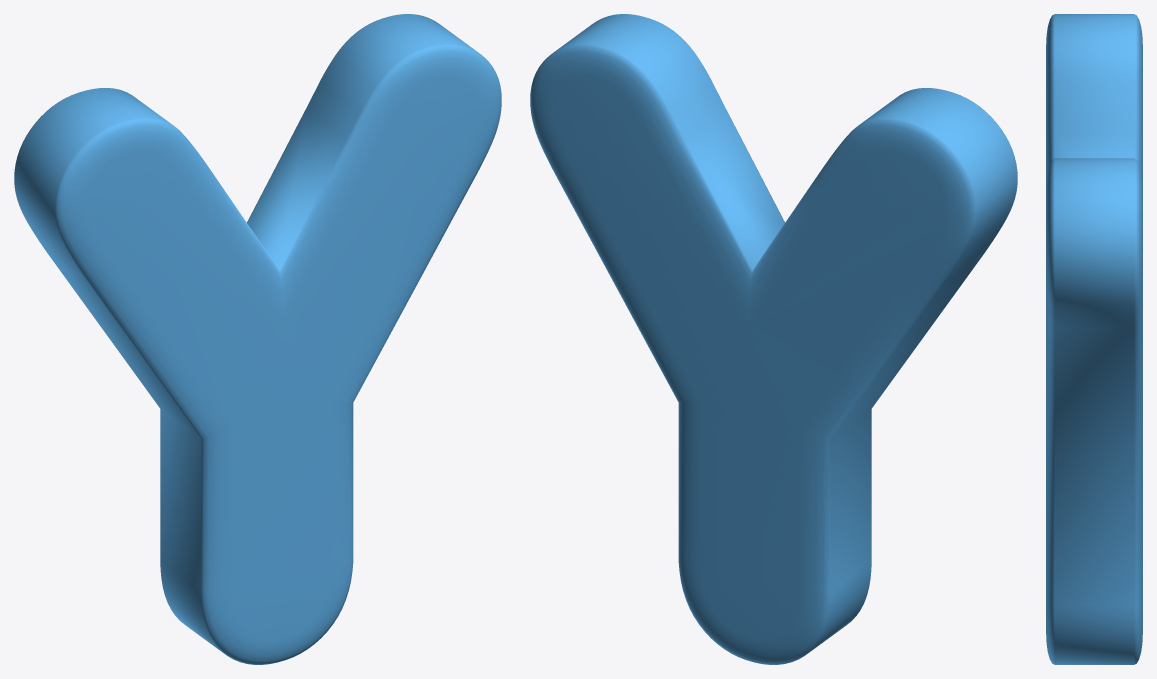
The model's file is RA_Letter_Y.fbx.
The picture shows the model from 3 angles, left to right: view 1: azimuth 30°, elevation 25°; view 2: azimuth 150°, elevation 25°; view 3: azimuth 270°, elevation 25°; orthographic projection. The views are drawn at different scales.
Visible parts, largest first — view 1: RA_Letter_Y; view 2: RA_Letter_Y; view 3: RA_Letter_Y.
Part boxes in pixels (bbox=[...]): RA_Letter_Y: bbox=[14, 14, 501, 664]; RA_Letter_Y: bbox=[530, 14, 1017, 664]; RA_Letter_Y: bbox=[1046, 14, 1142, 664].
Size of the model in its own units: 145 by 180 by 28.
